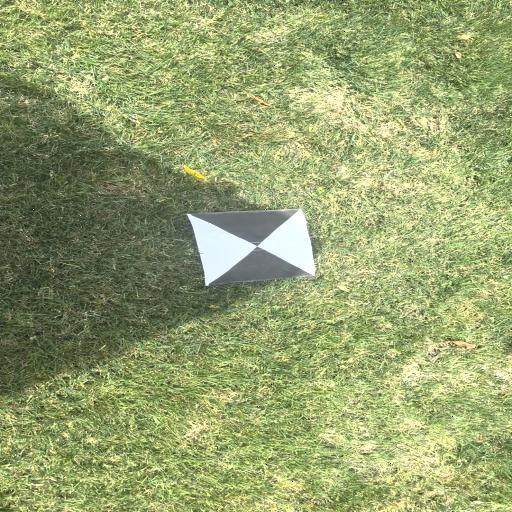target: (187, 207, 315, 285)
